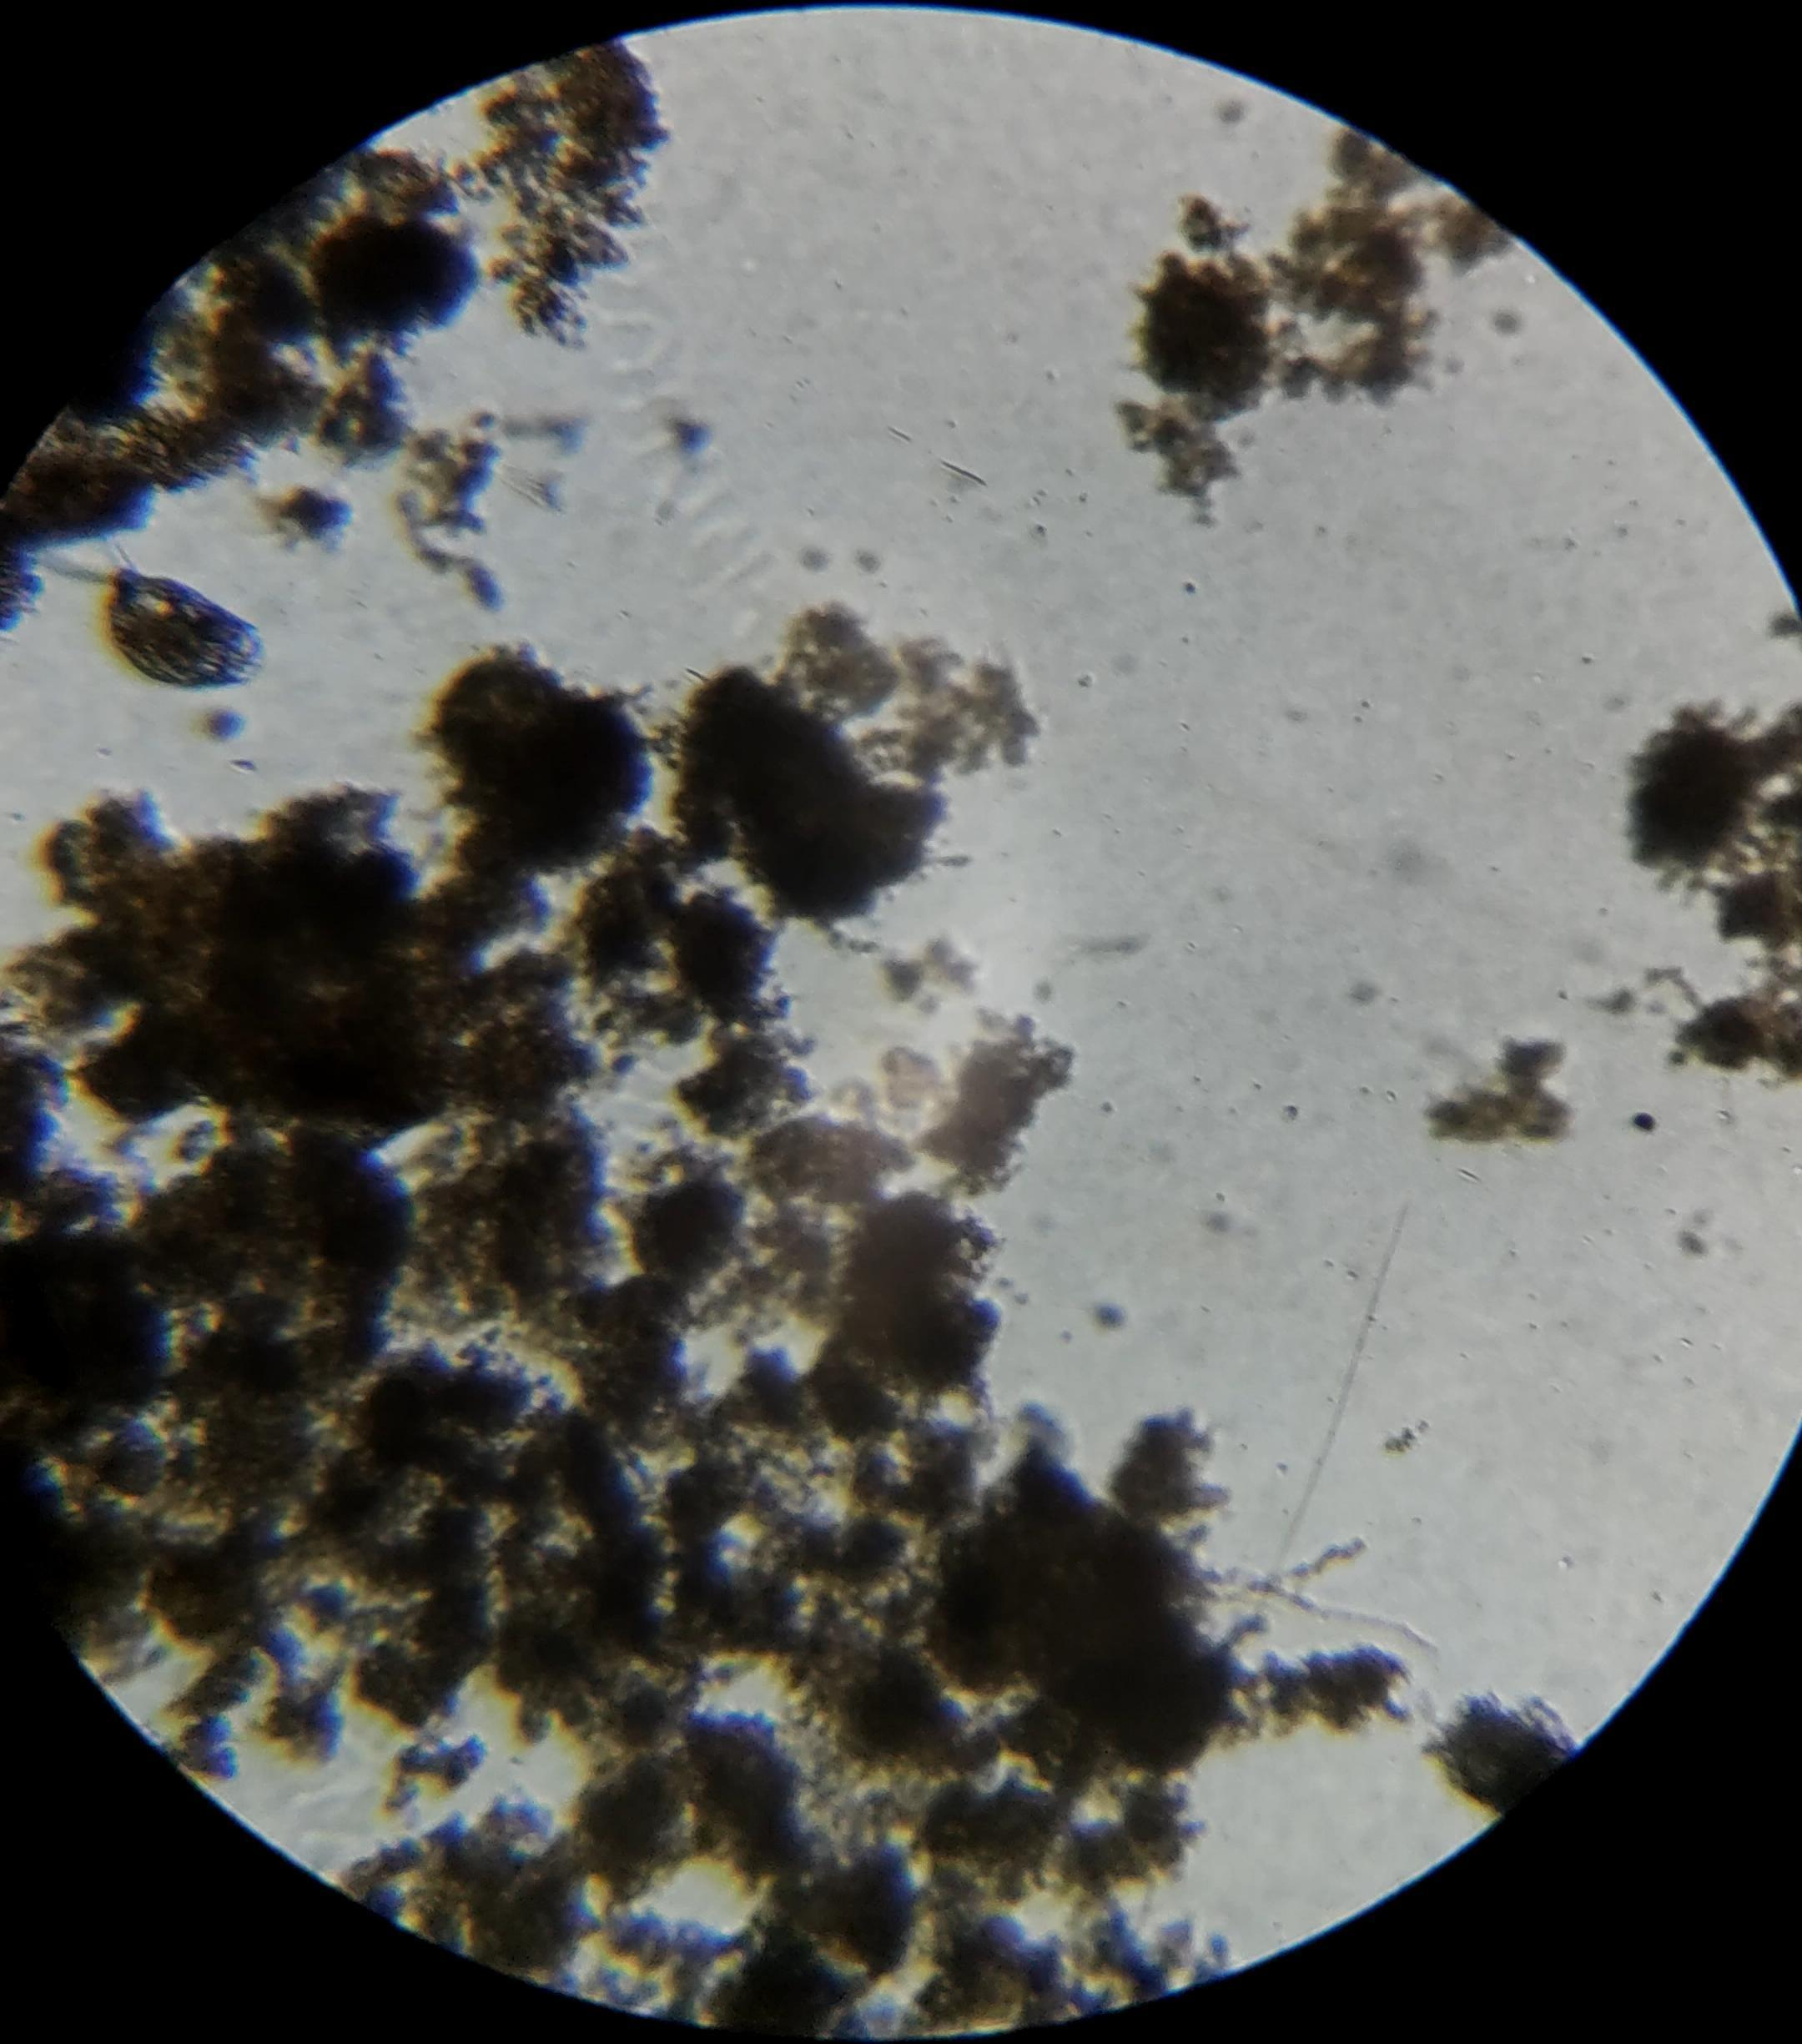Mo: (96, 515, 263, 687)
